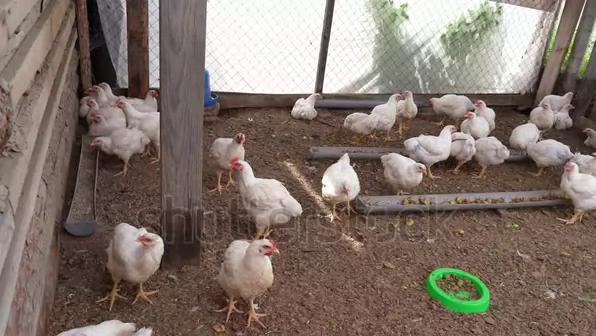Pollos: (229, 159, 301, 227), (217, 235, 280, 299), (108, 220, 161, 280), (556, 161, 596, 216), (93, 129, 150, 161), (324, 150, 355, 205), (409, 125, 458, 158), (114, 96, 164, 128), (381, 154, 425, 190), (342, 109, 374, 143), (475, 135, 507, 169), (526, 139, 569, 163), (507, 122, 545, 149), (428, 94, 476, 113), (292, 91, 321, 122), (376, 92, 400, 129), (556, 90, 578, 127), (212, 131, 245, 154), (399, 89, 417, 123), (461, 111, 488, 133), (533, 99, 555, 126), (475, 98, 499, 122), (86, 83, 114, 99), (89, 111, 112, 129), (143, 86, 160, 105)
